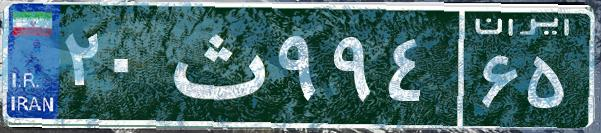0: (110, 28, 158, 105)
2: (57, 26, 110, 107)
4: (385, 28, 445, 110)
5: (525, 38, 570, 115)
6: (475, 38, 525, 113)
9: (273, 28, 330, 110), (330, 28, 385, 110)
ث: (158, 15, 273, 115)
